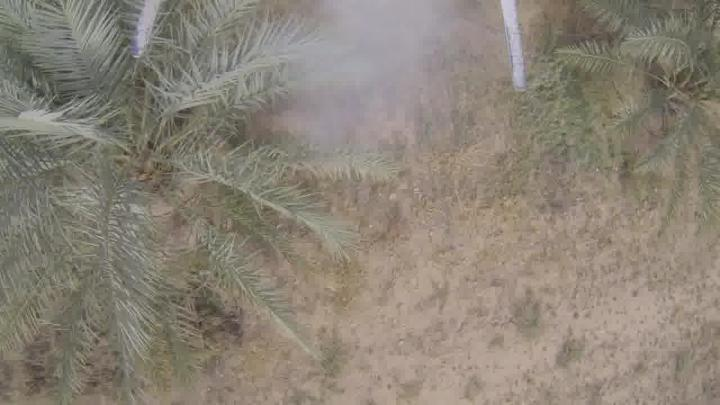Date-Palm-Crown: (0, 0, 254, 280), (636, 18, 720, 172)
